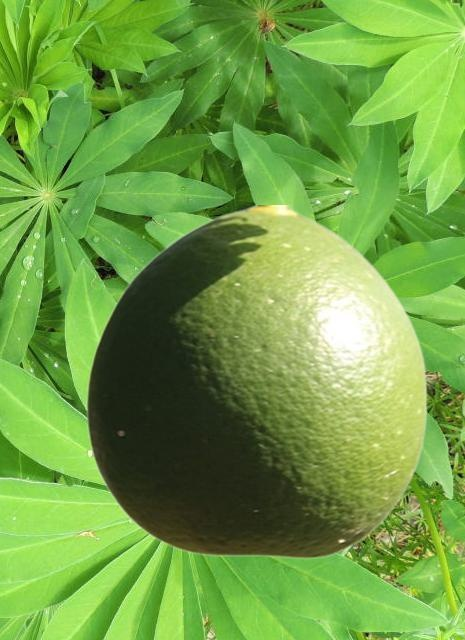dalandan: (85, 205, 427, 558)
